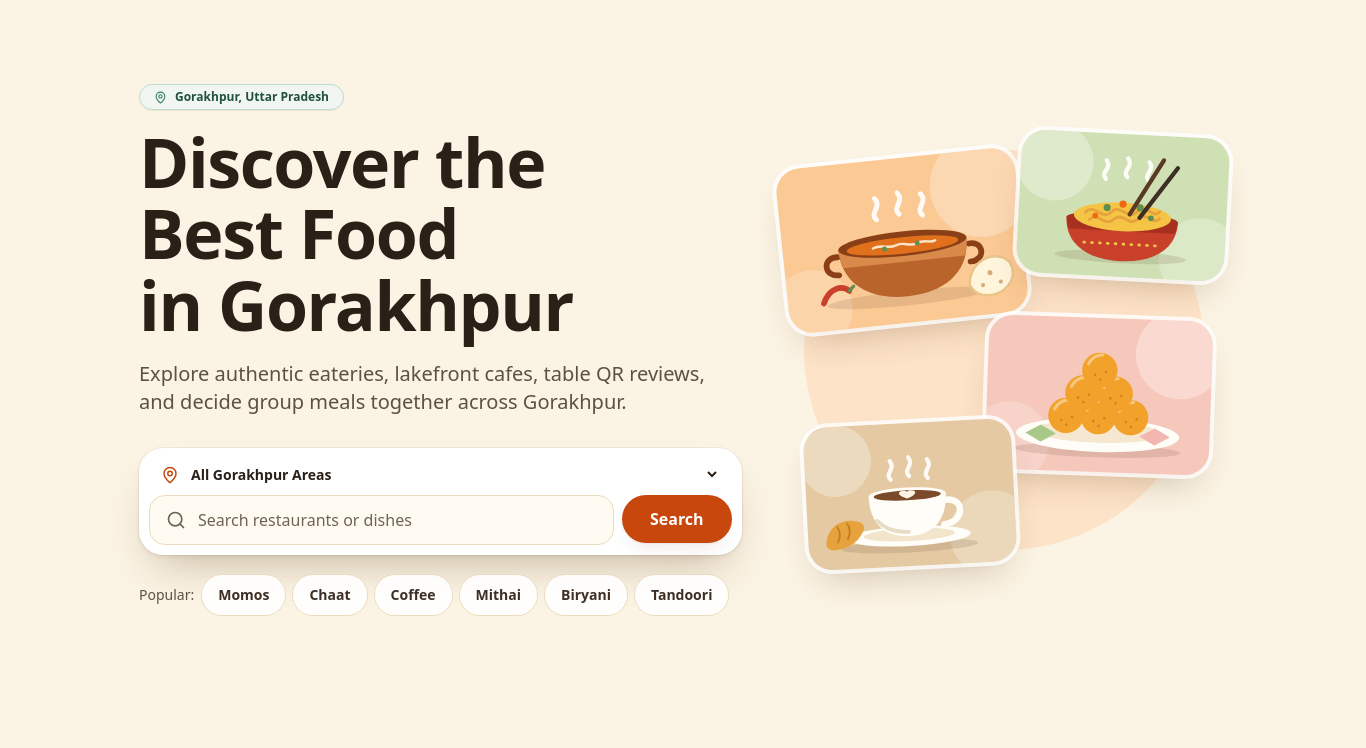
Test: HomePage › shows an empty state and recovers from it
Type "sushi" into the search field labelled "Search restaurants or dishes" at (398, 520), box [198, 496, 597, 544]
(page scrolled)
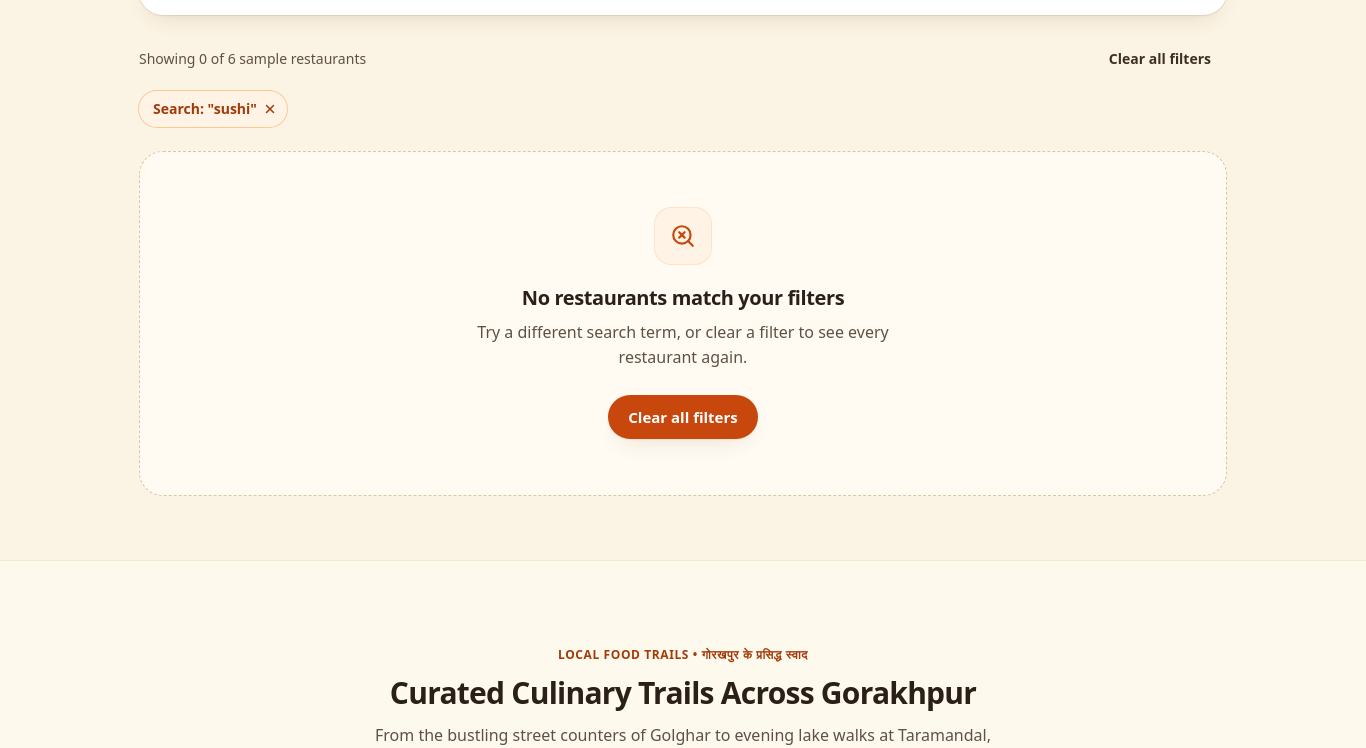
Check: the heading "No restaurants match your filters" is shown, box [522, 284, 844, 312]
Click the button "Clear all filters" below "No restaurants match your filters" at (683, 417), box [608, 395, 758, 439]
(page scrolled)
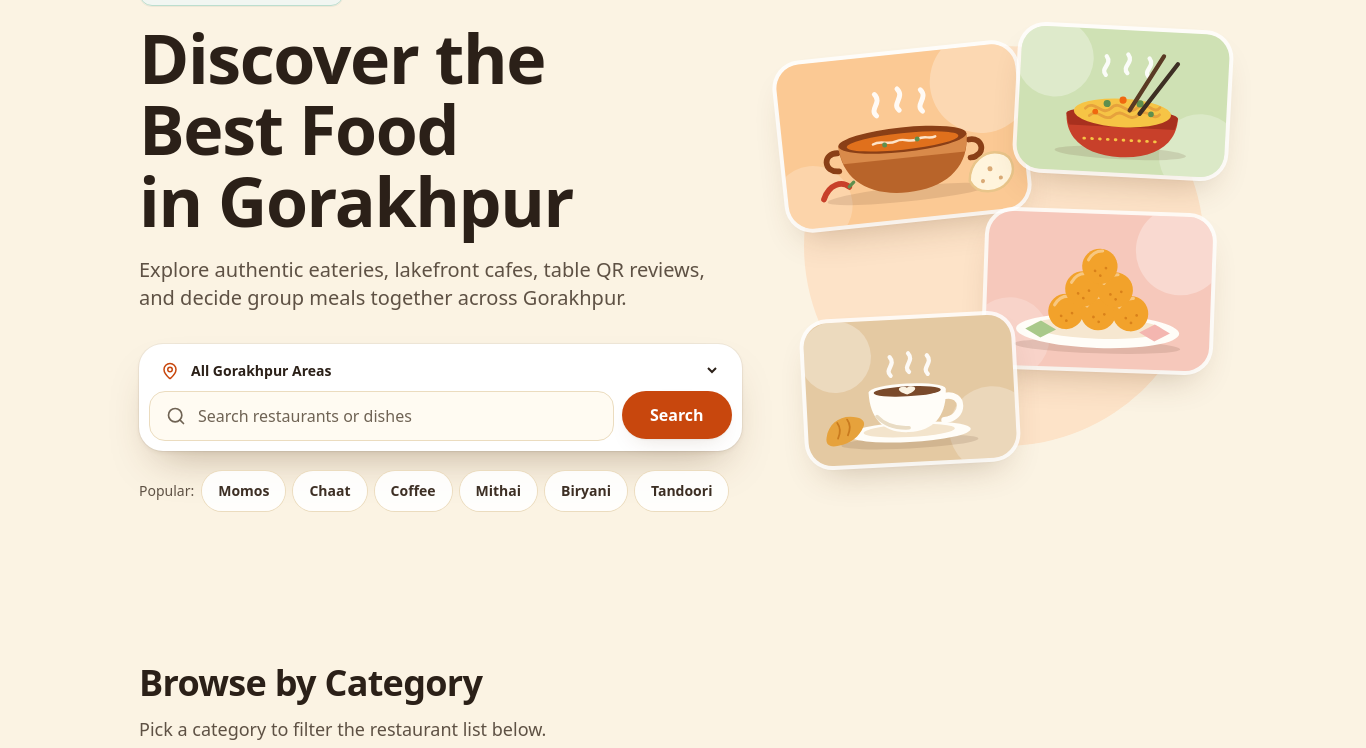
Check: the search field labelled "Search restaurants or dishes" is empty, box [198, 392, 597, 440]
